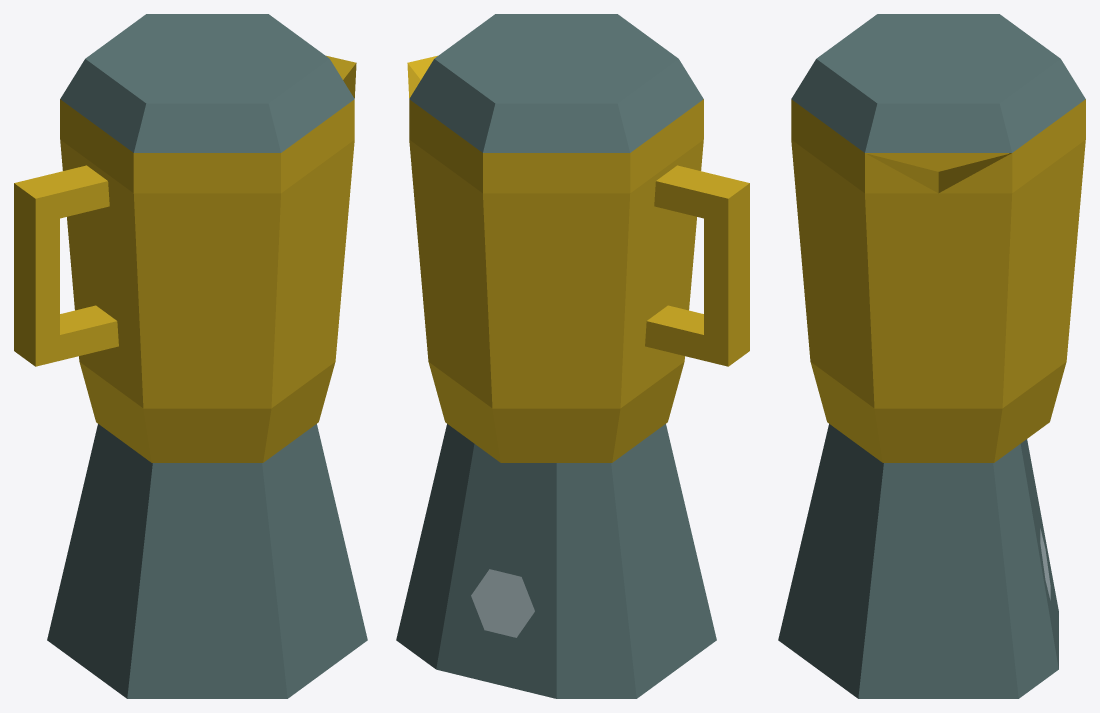
File: blenderYellowFill.fbx
3 renders of one model, left to right at view 1: azimuth 30°, elevation 25°; view 2: azimuth 150°, elevation 25°; view 3: azimuth 270°, elevation 25°, orthographic.
Visible parts, largest first — view 1: kitchenBlender; view 2: kitchenBlender; view 3: kitchenBlender.
Boxes of the visible parts, box(x1,y1,x2,y2) form: kitchenBlender: box(14, 14, 367, 698); kitchenBlender: box(396, 14, 749, 698); kitchenBlender: box(778, 14, 1085, 698).
Size of the model in its own units: 13.58 by 22.75 by 10.91.
